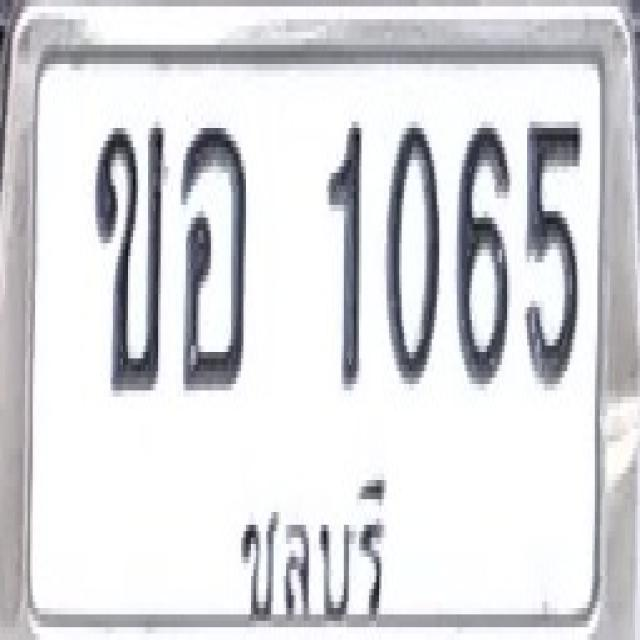0: (384, 112, 439, 387)
1: (325, 116, 363, 390)
5: (523, 112, 581, 387)
6: (454, 119, 510, 388)
A02: (93, 119, 166, 394)
A43: (180, 122, 248, 390)
CBI: (227, 476, 401, 630)
